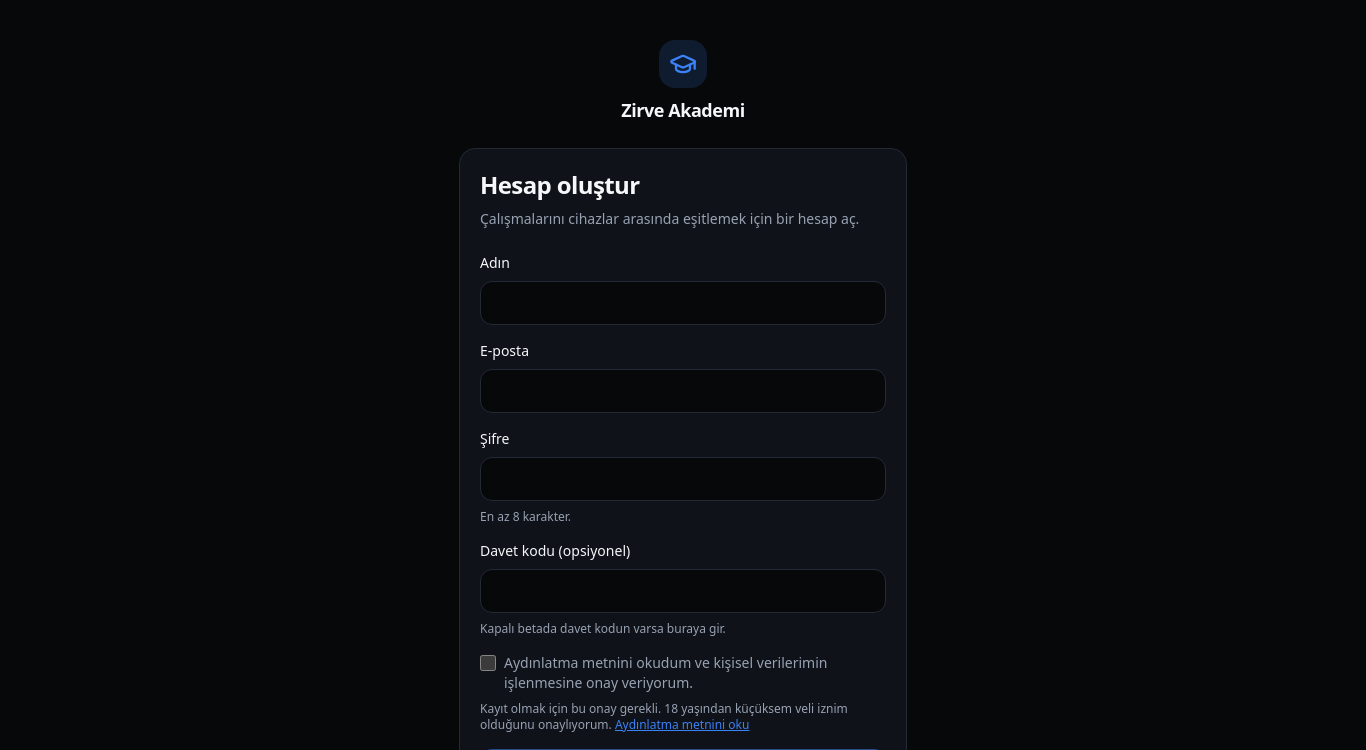
it: başarılı kayıt oturum açar ve onboarding ekranına gider
Type "Test Kullanıcı" into the field labelled "Adın" at (683, 303), box [480,281,886,325]
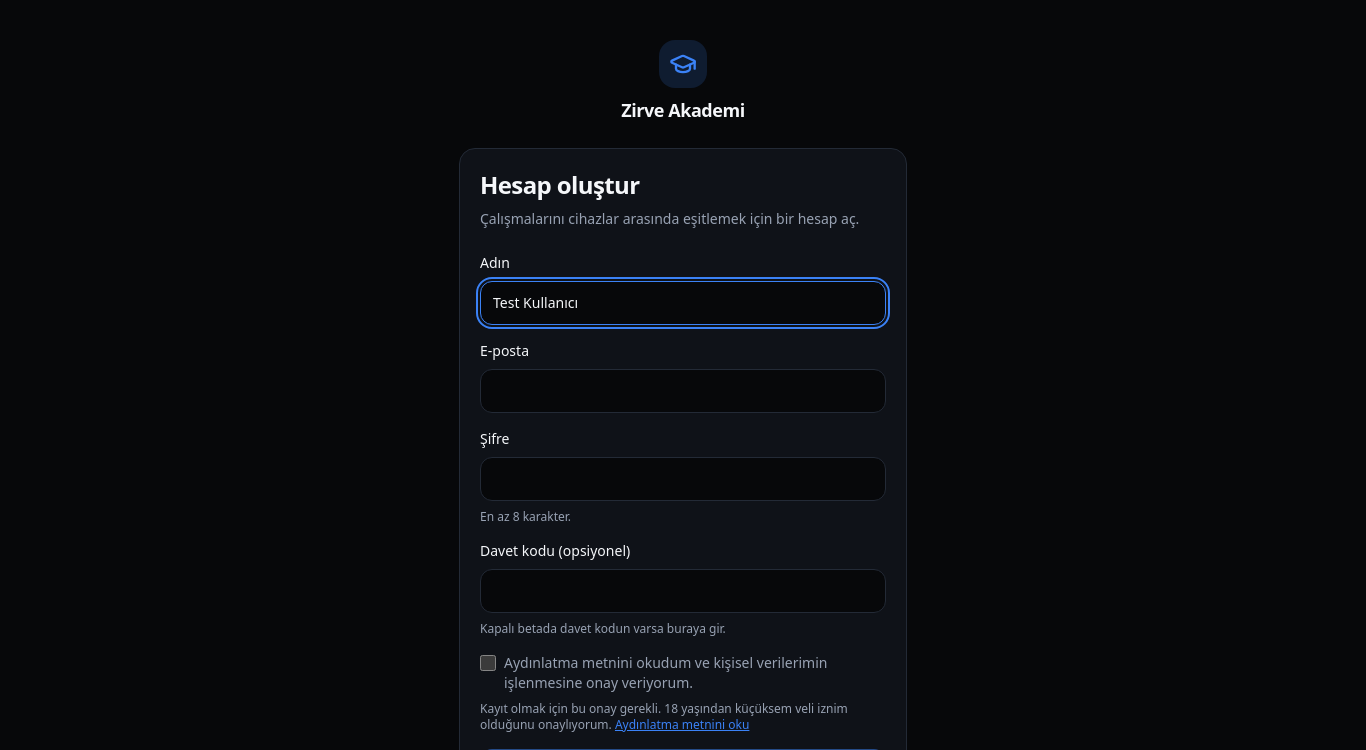
Type "test@example.com" into the field labelled "E-posta" at (683, 391), box [480,369,886,413]
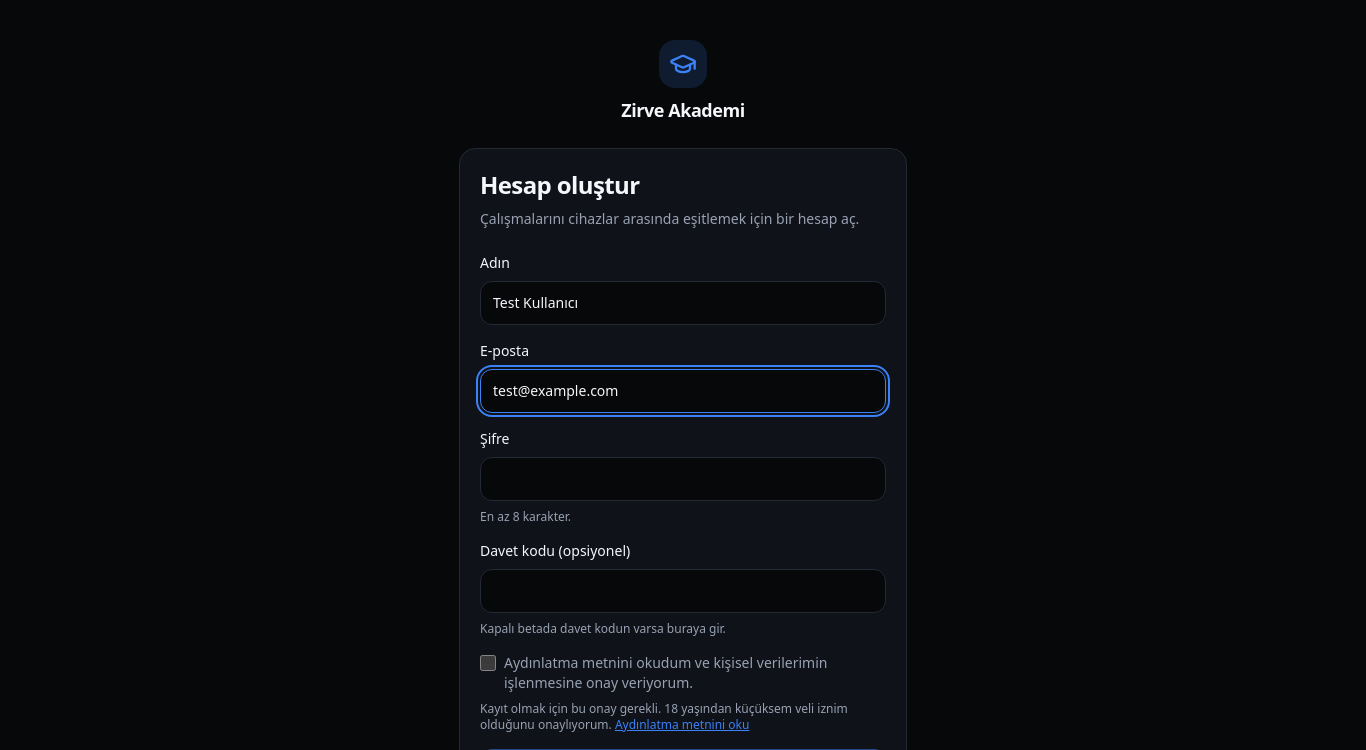
Type "gizli-sifre-123" into the password field labelled "Şifre" at (683, 479), box [480,457,886,501]
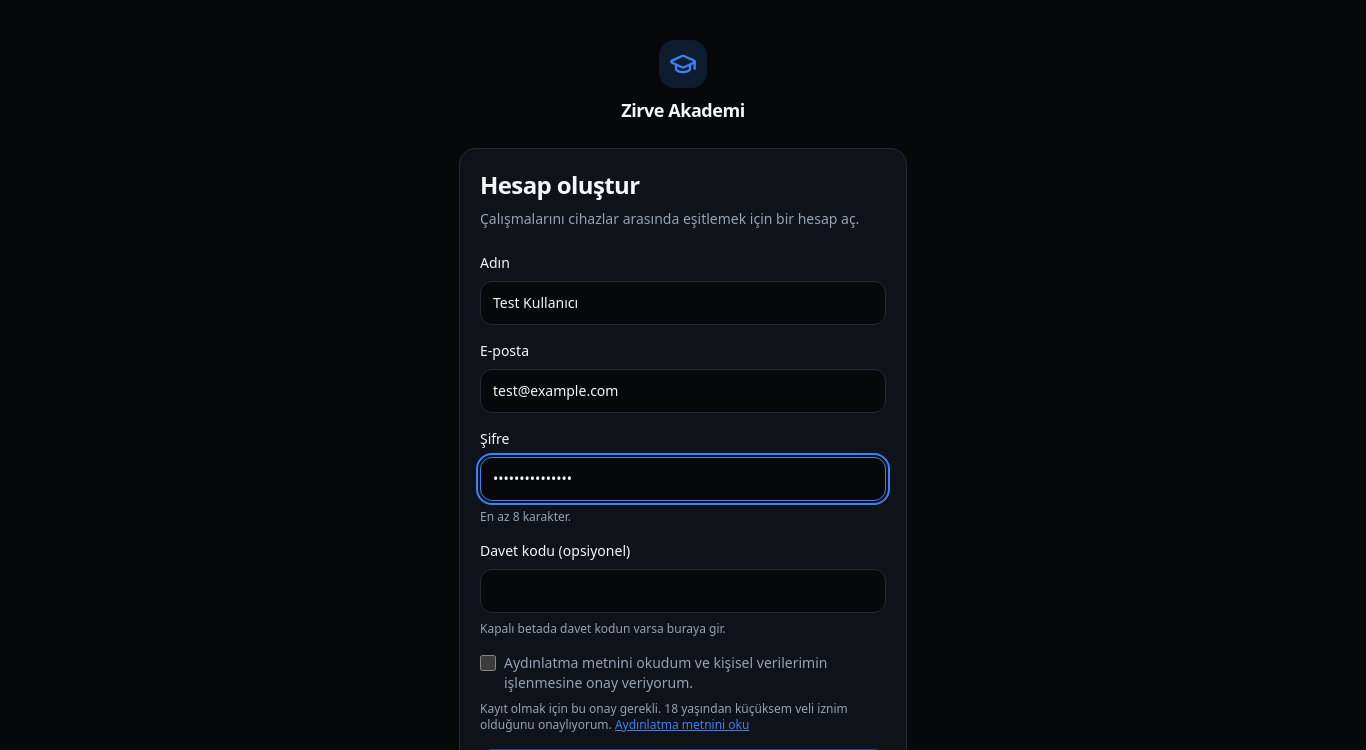
Click the checkbox at (488, 663), box [480,655,496,671]
(page scrolled)
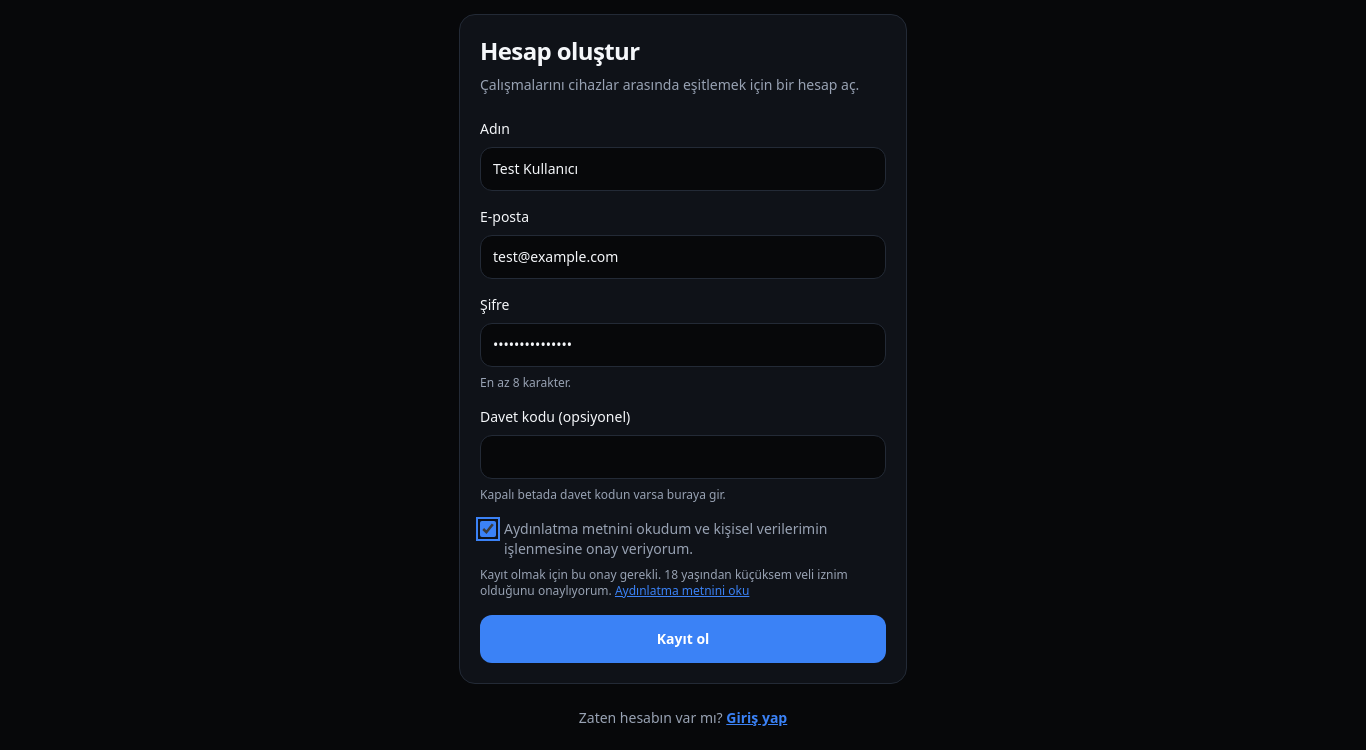
Click the button "Kayıt ol" at (683, 639), box [480,615,886,663]
(page scrolled)
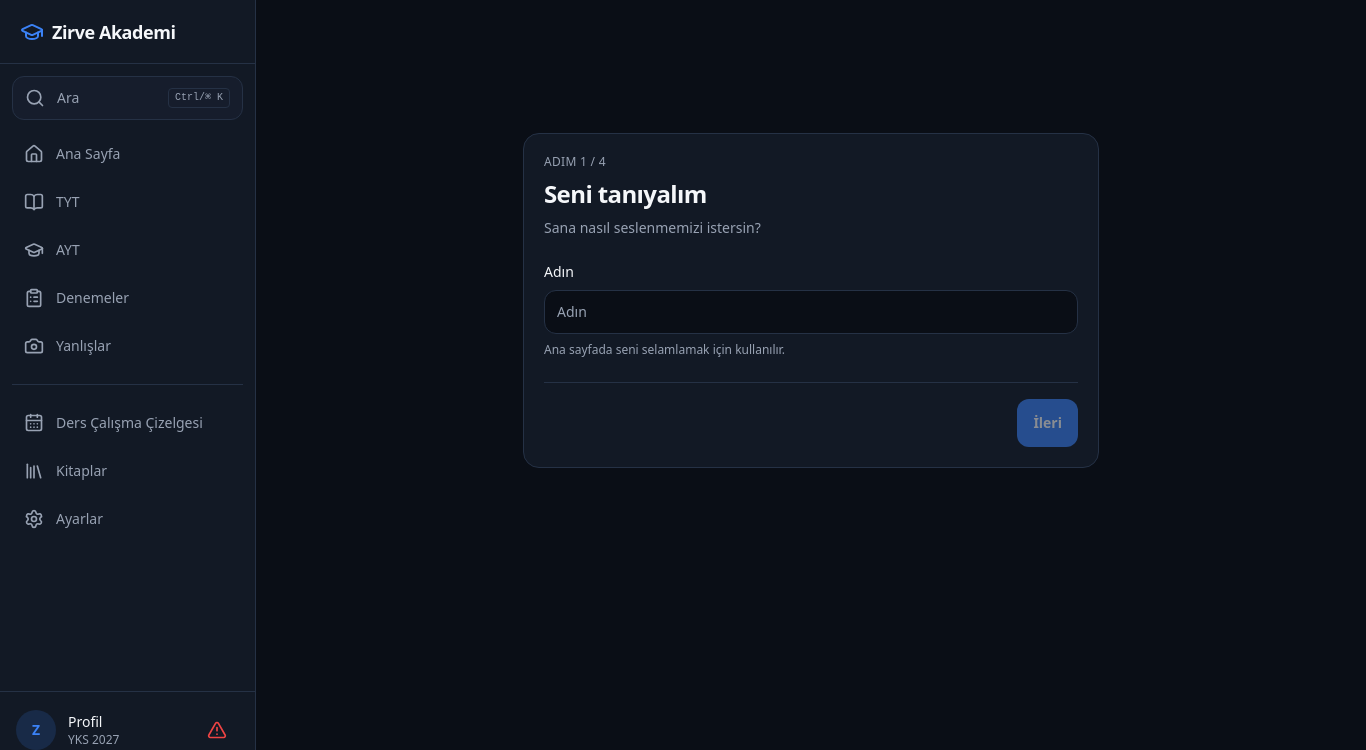
Now the heading "Seni tanıyalım" is shown, box [544,177,707,210]
